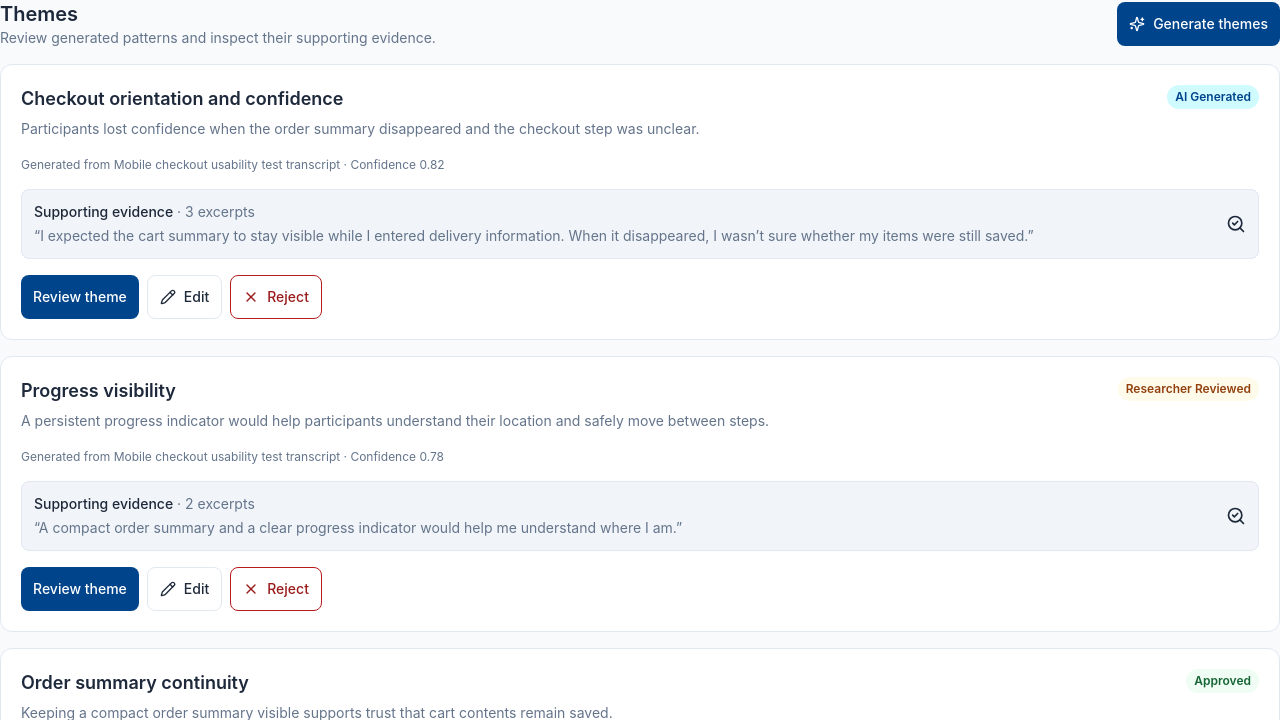
Test case: SessionThemesWorkspaceView editing › keeps the editor open and reports a failed save
Click the button "Edit" below "0.82". click: coordinates (184, 297)
box: x1=147 y1=275 x2=222 y2=319
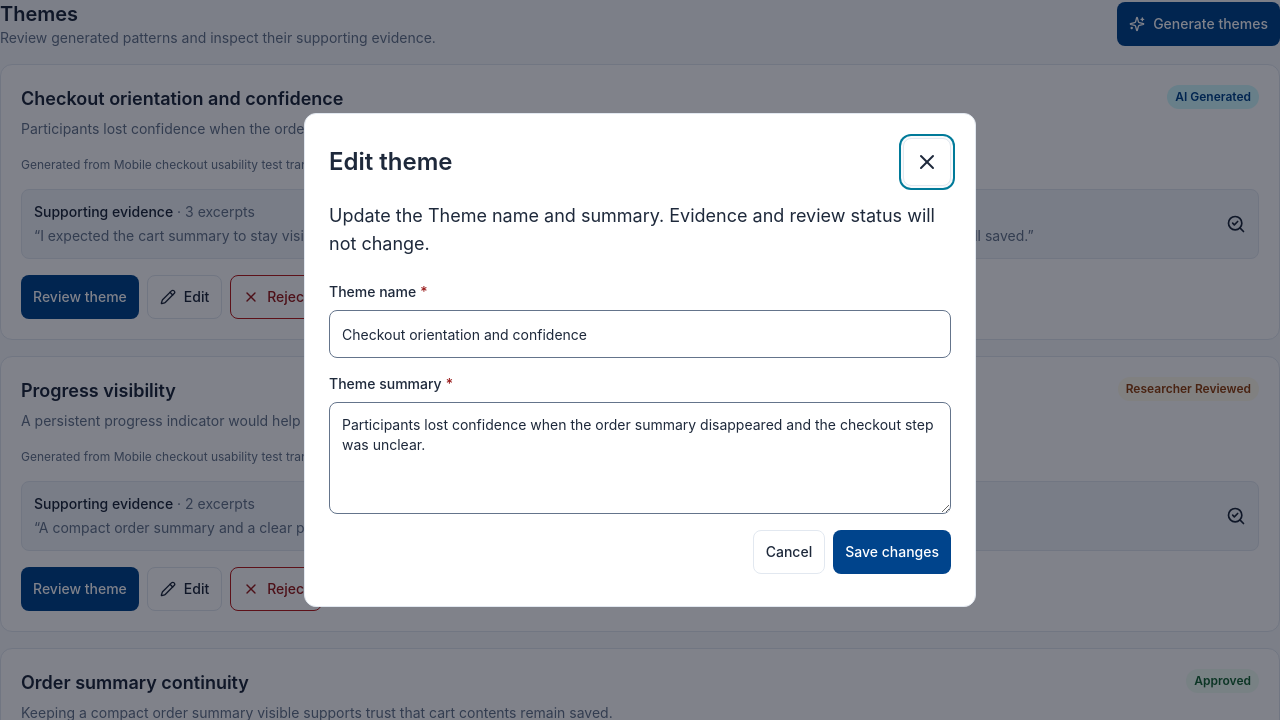
Click the button "Save changes". click: coordinates (892, 552)
box: x1=833 y1=530 x2=951 y2=574
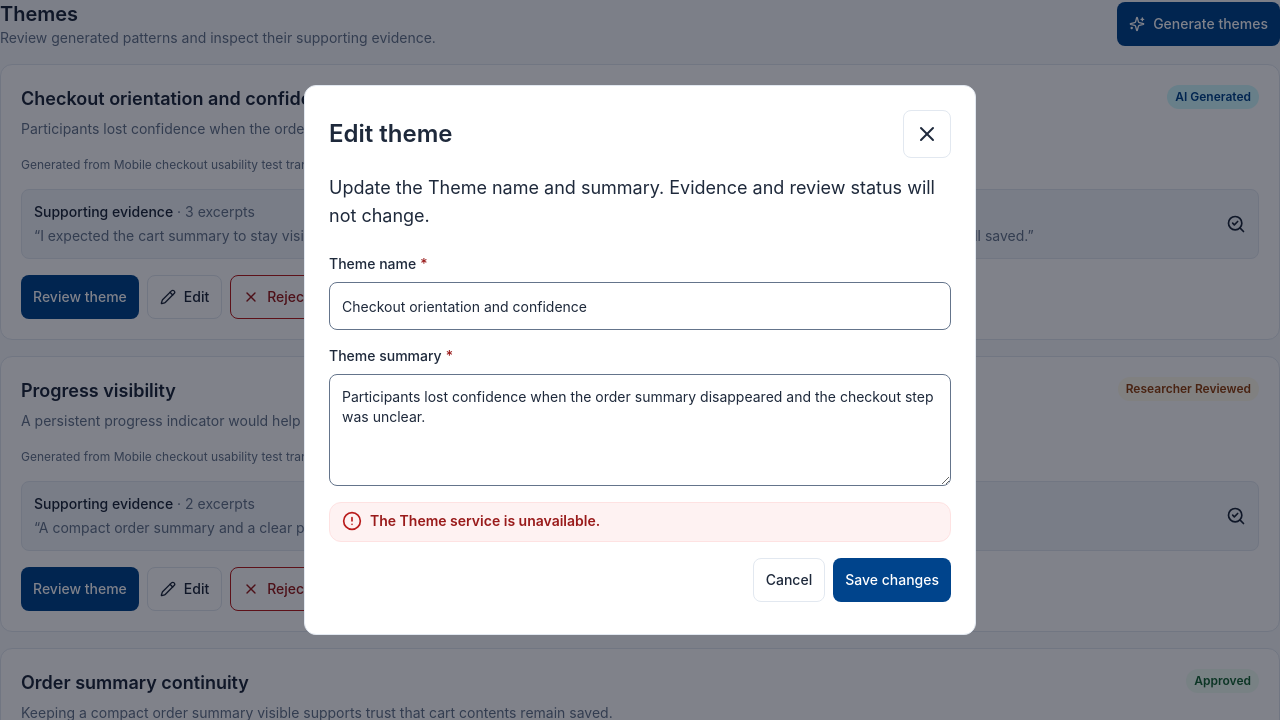
Check: the dialog "Edit theme" is shown, box x1=304 y1=85 x2=976 y2=635
Check: the text "The Theme service is unavailable." is shown, box x1=370 y1=512 x2=600 y2=529
